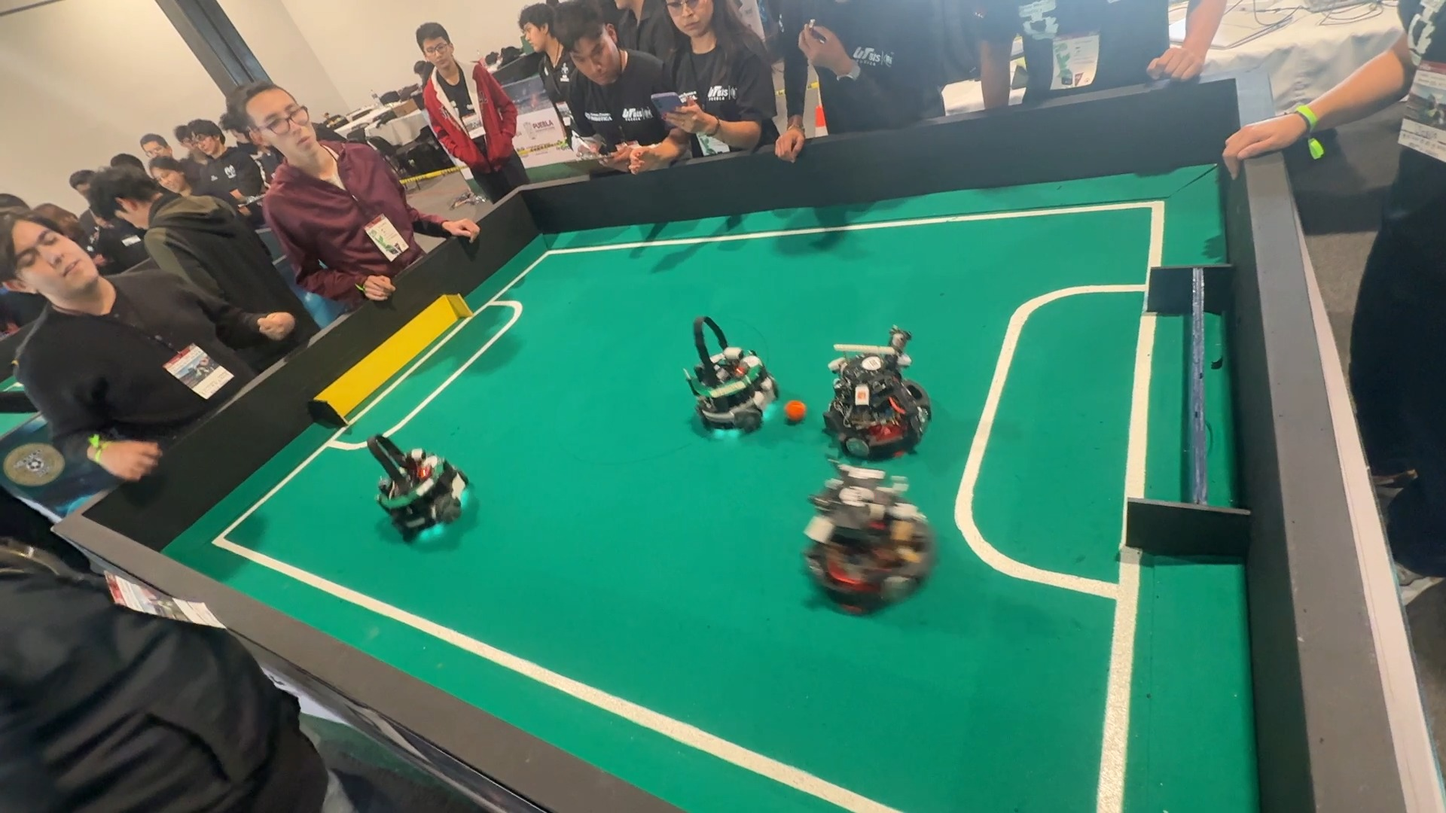Robot: (652, 306, 806, 447), (818, 447, 928, 612), (826, 331, 926, 452), (356, 432, 472, 536)
pelota: (782, 398, 815, 428)
